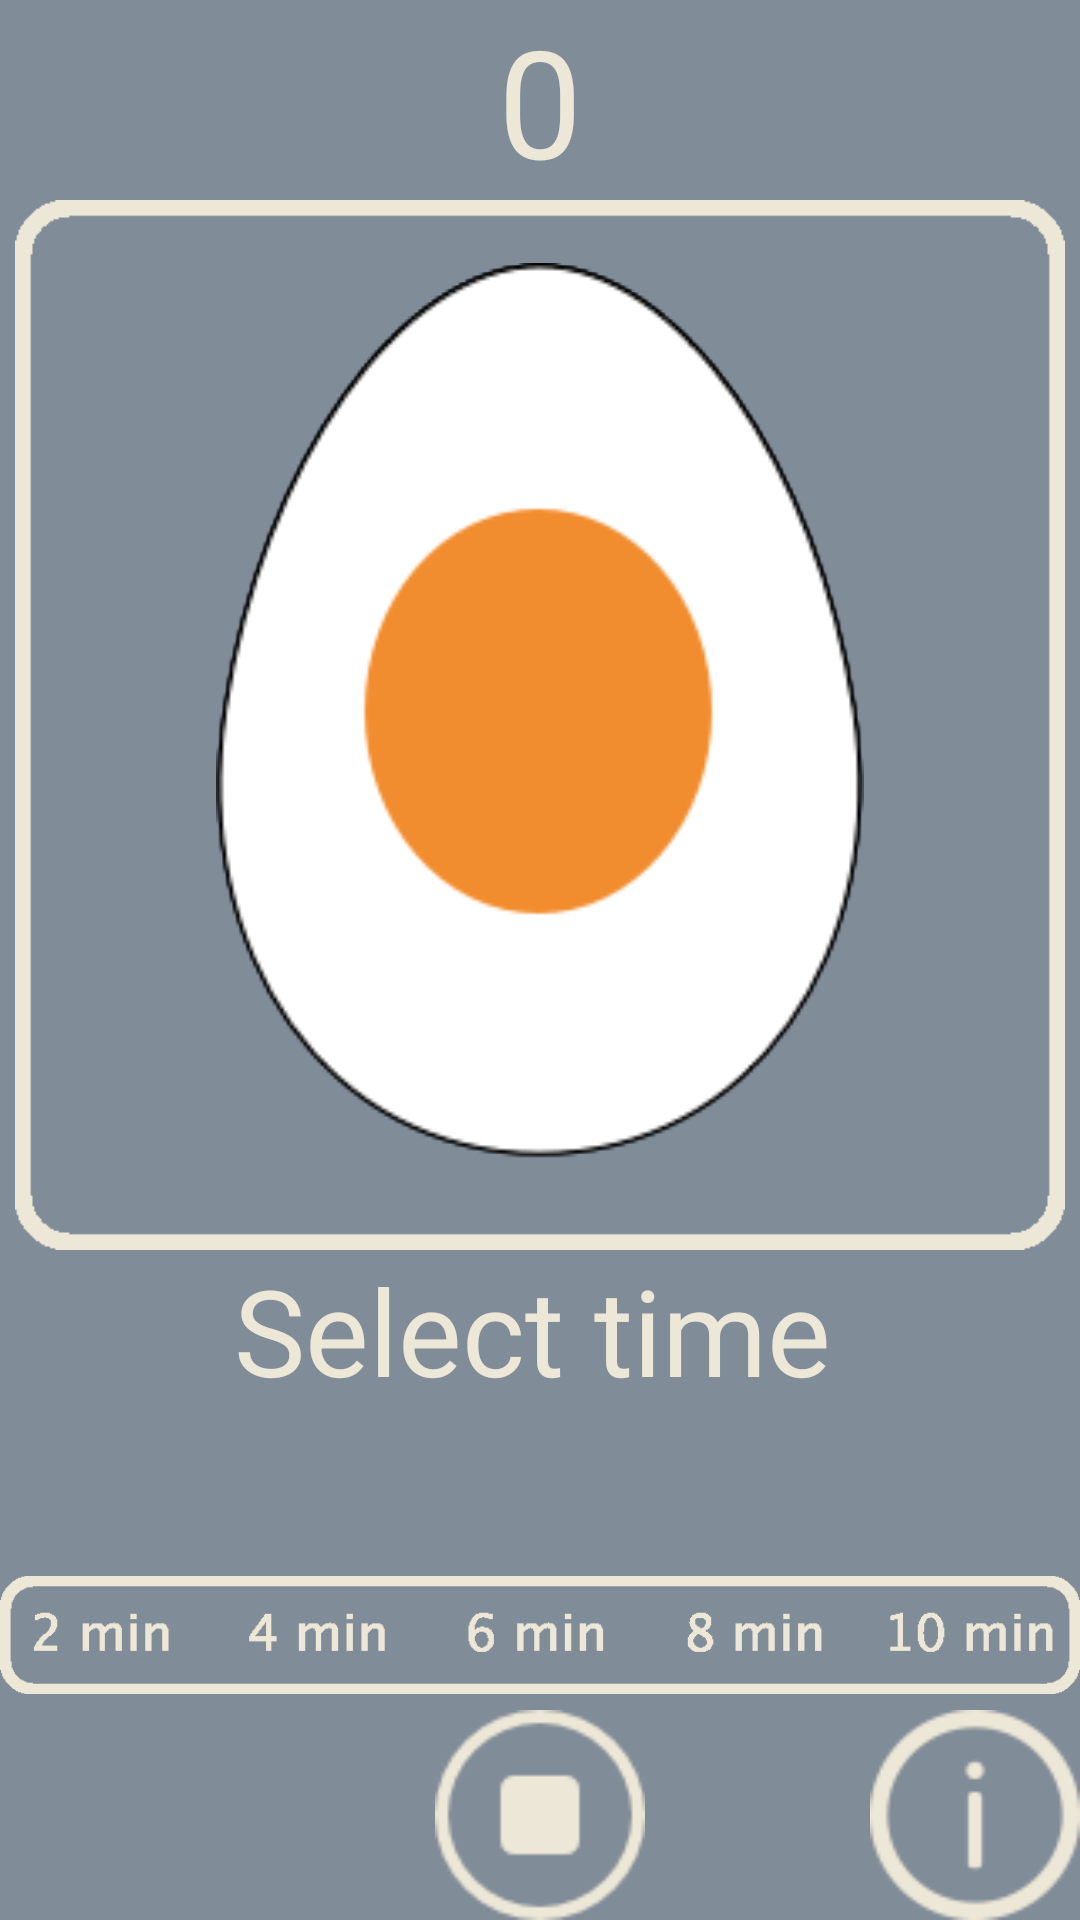

Where icons sit on this 1080 × 1920 app screen, as (x1, y1, x2, y2):
info: (870, 1710, 1080, 1920)
stop: (435, 1710, 645, 1920)
